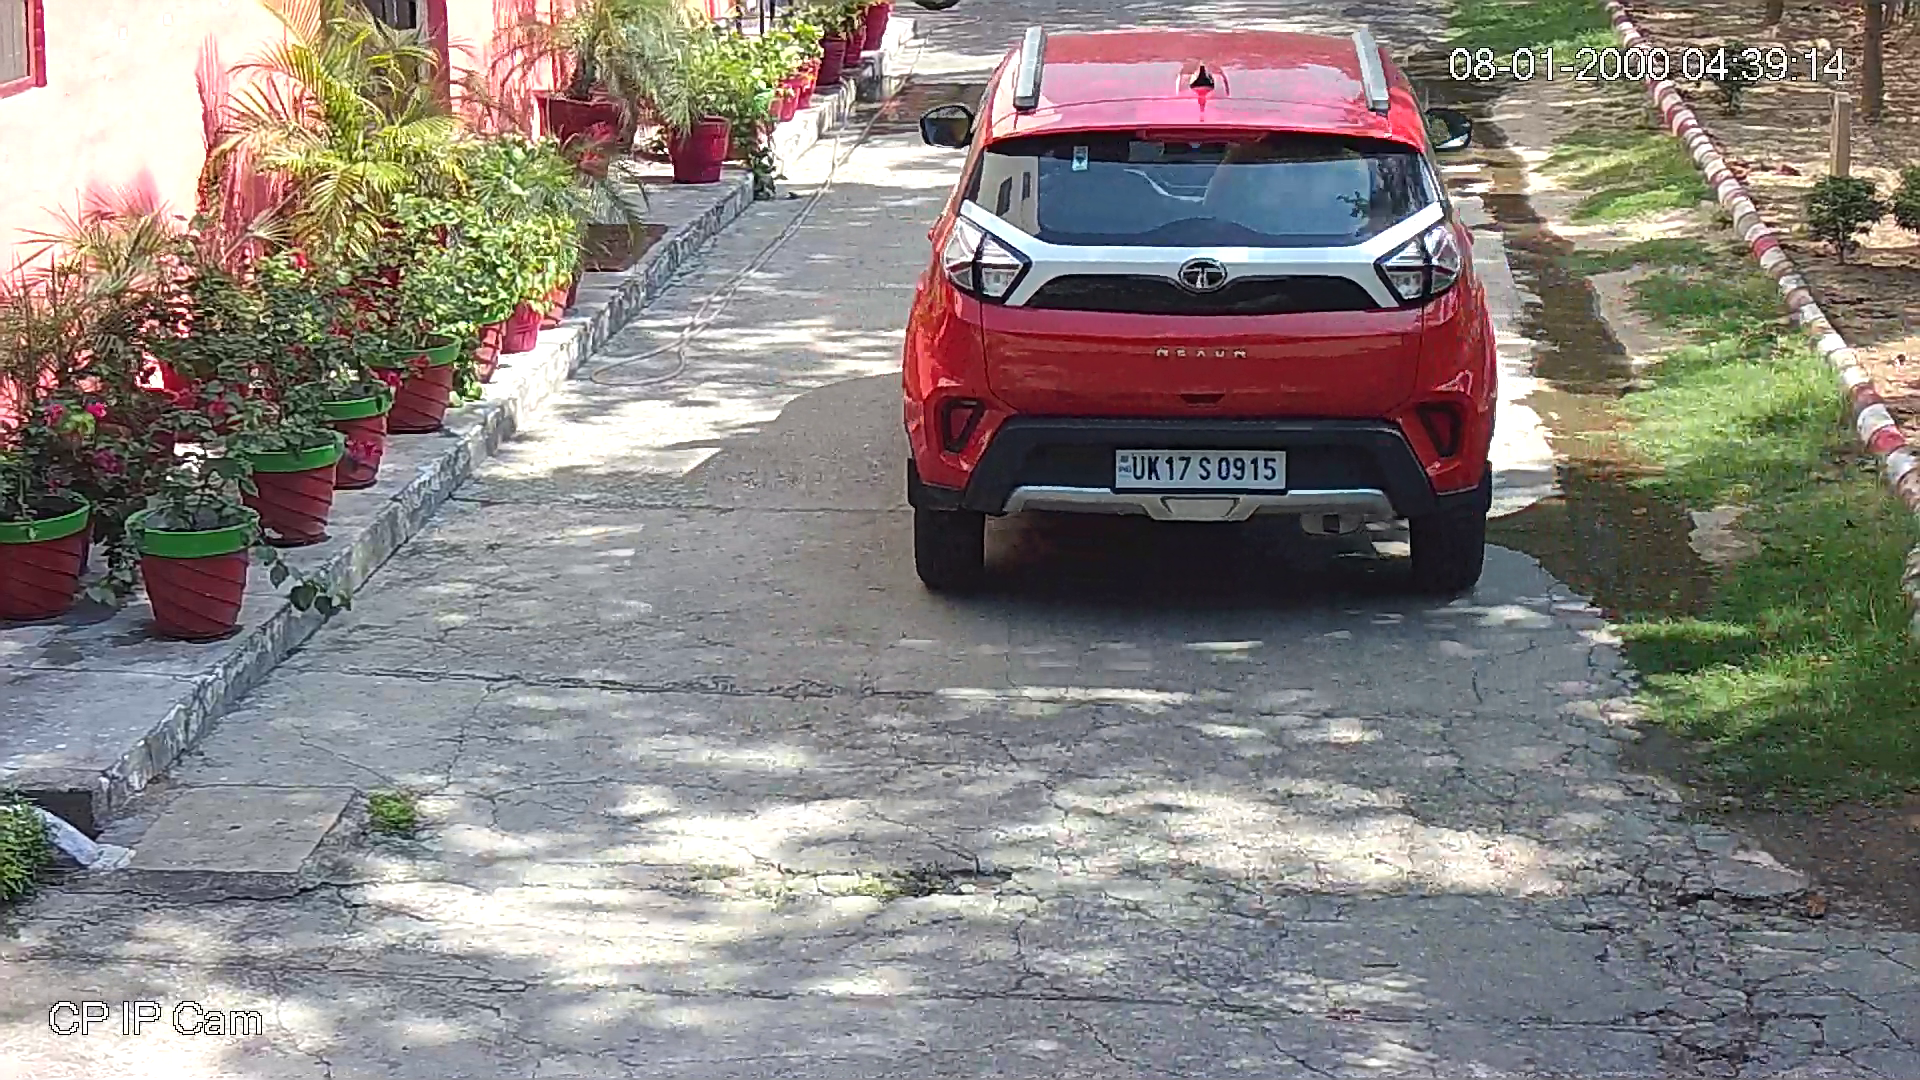plate: (1108, 443, 1295, 494)
